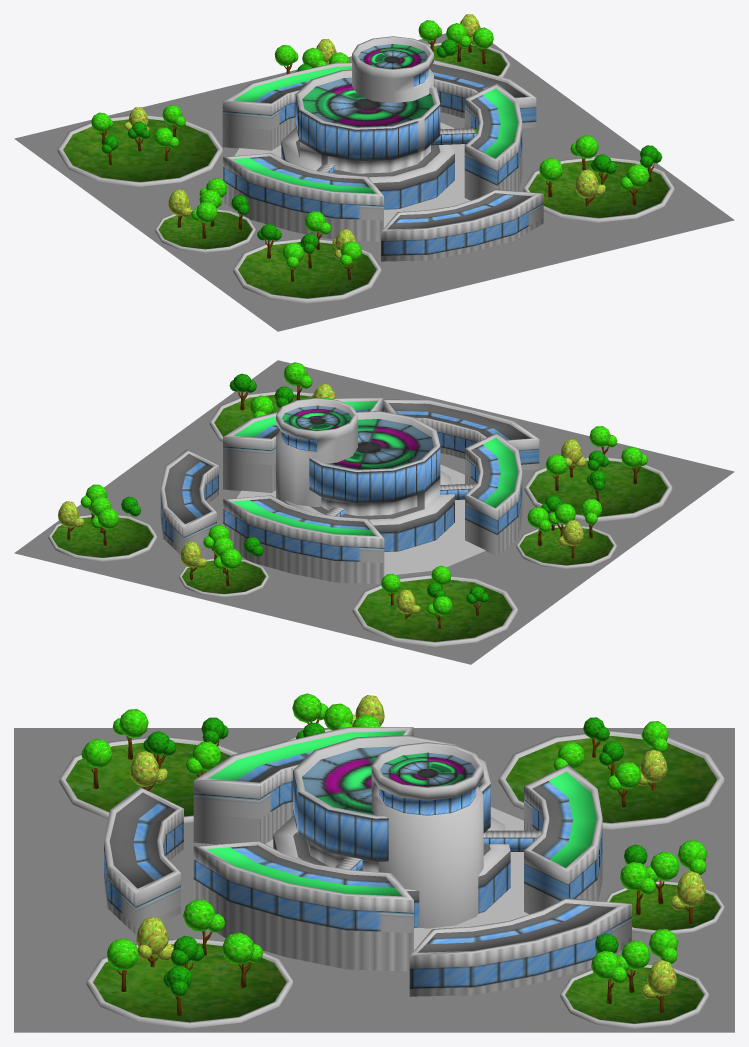
Rendered from appdeveloper_LV1.fbx.
The picture shows the model from 3 angles, top to bottom: view 1: azimuth 30°, elevation 25°; view 2: azimuth 150°, elevation 25°; view 3: azimuth 270°, elevation 25°; orthographic projection. The views are drawn at different scales.
Parts seen in each view (by area): view 1: app developer lv 1; view 2: app developer lv 1; view 3: app developer lv 1.
Part boxes in pixels (x1,y1,x2,y2): app developer lv 1: [14, 14, 734, 331]; app developer lv 1: [14, 360, 734, 664]; app developer lv 1: [14, 693, 734, 1032].
Bounding box in the file's own units: 180 × 41.14 × 180.
